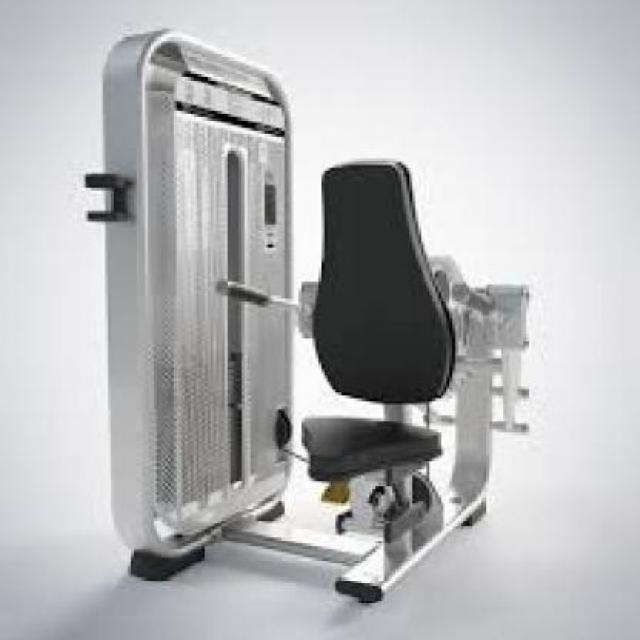seated dip machine: (68, 23, 542, 609)
